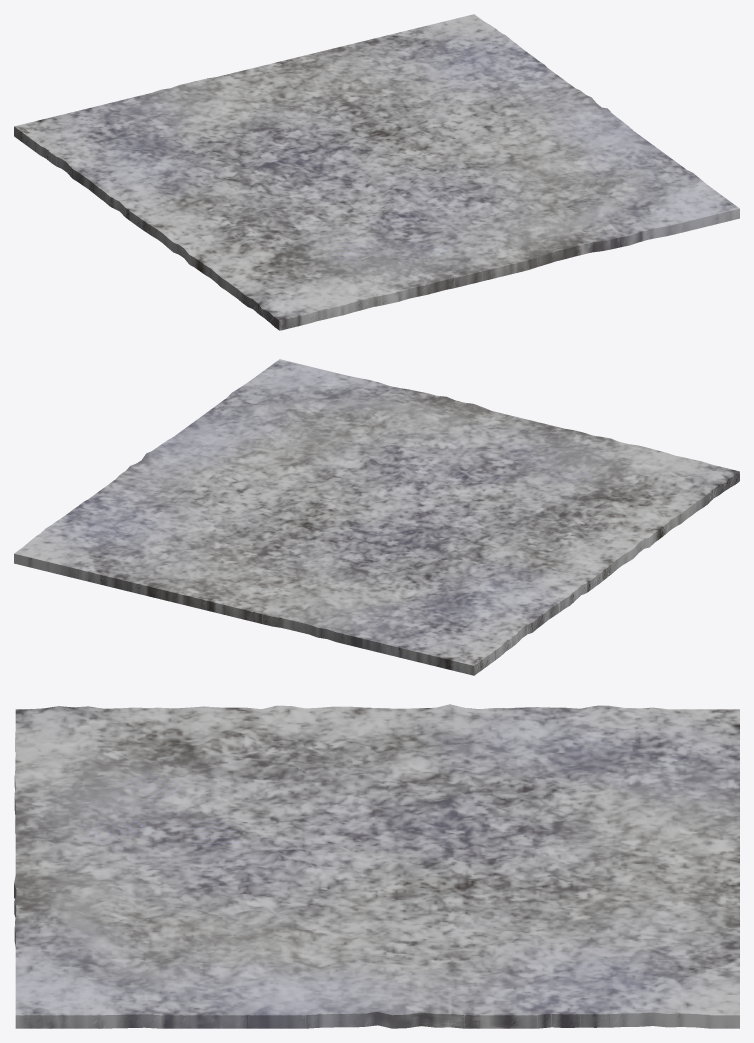
File: Ground_Textured.fbx
3 views of the same model, one above another, from view 1: azimuth 30°, elevation 25°; view 2: azimuth 150°, elevation 25°; view 3: azimuth 270°, elevation 25° (orthographic). The views are drawn at different scales.
Visible parts, largest first — view 1: pCube1; view 2: pCube1; view 3: pCube1.
Boxes of the visible parts, x1,y1,x2,y2 form: pCube1: (14,14,739,330); pCube1: (14,359,739,675); pCube1: (14,704,739,1028).
Bounding box in the file's own units: 390 × 12.62 × 389.
1 material, 1 textured.
